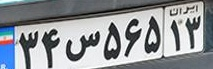character: (62, 23, 104, 63), (39, 26, 65, 69), (100, 18, 123, 62), (17, 28, 41, 69), (121, 15, 143, 59), (142, 12, 163, 55), (182, 12, 204, 50), (166, 18, 184, 54)
